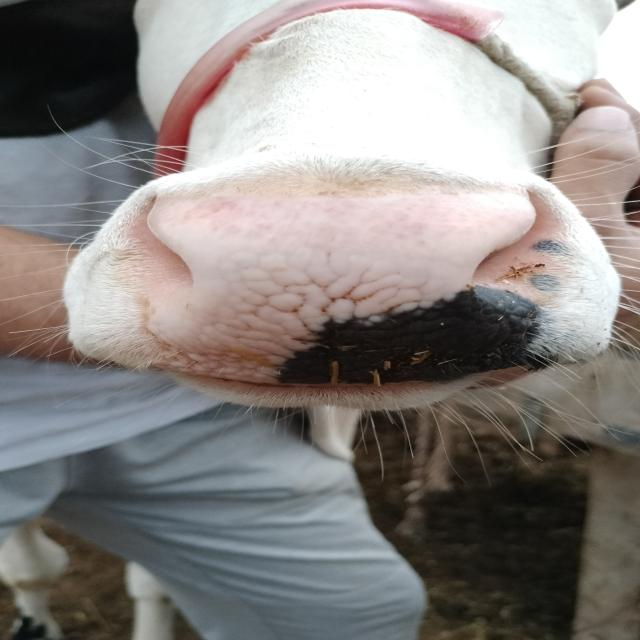muzzles: (110, 161, 592, 394)
